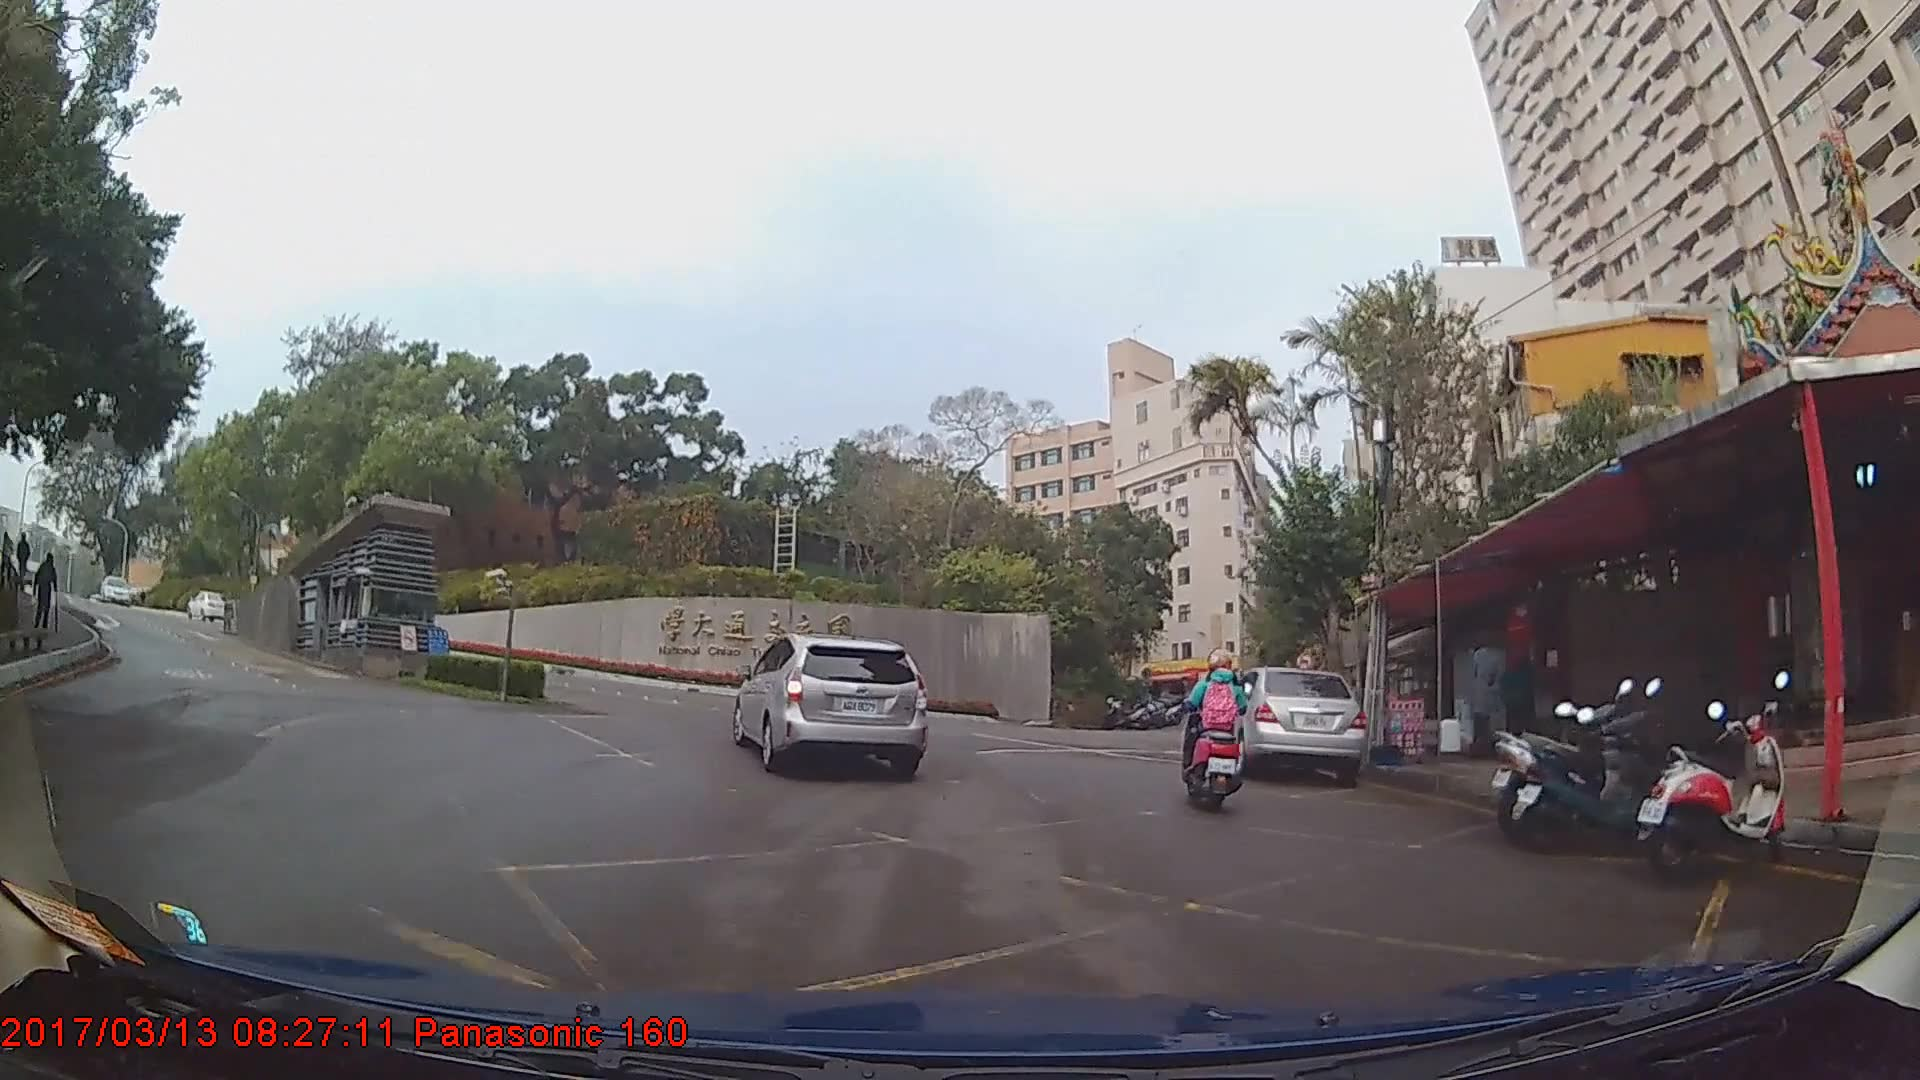pedestrian: (1499, 641, 1550, 765), (29, 555, 60, 631), (14, 530, 34, 593), (1, 534, 21, 580)
rider: (1177, 656, 1253, 823)
vehicle: (728, 630, 924, 777), (1214, 666, 1367, 783), (185, 591, 228, 622), (95, 574, 133, 606)
